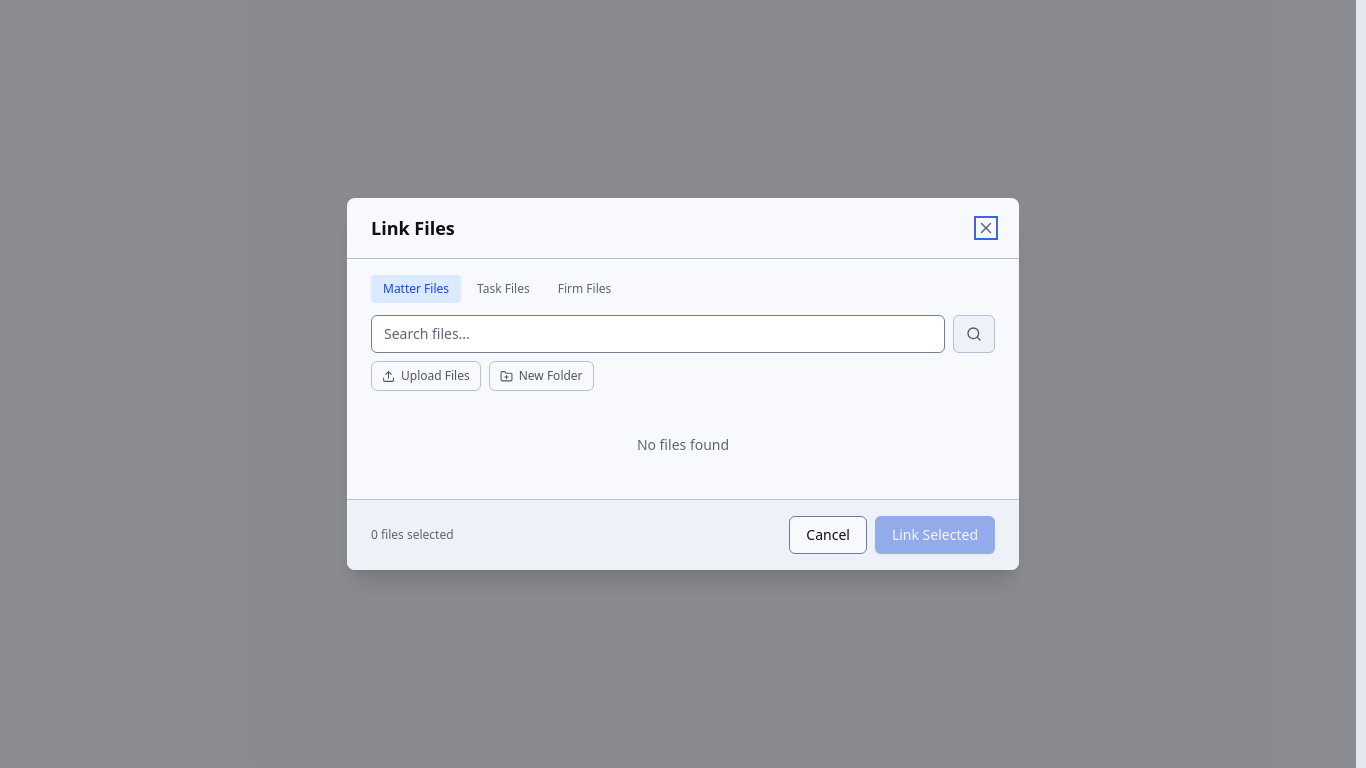
Test: disables the footer Cancel until the folder create settles
Click the button "New Folder" at (541, 376), box left=489, top=361, right=594, bottom=391
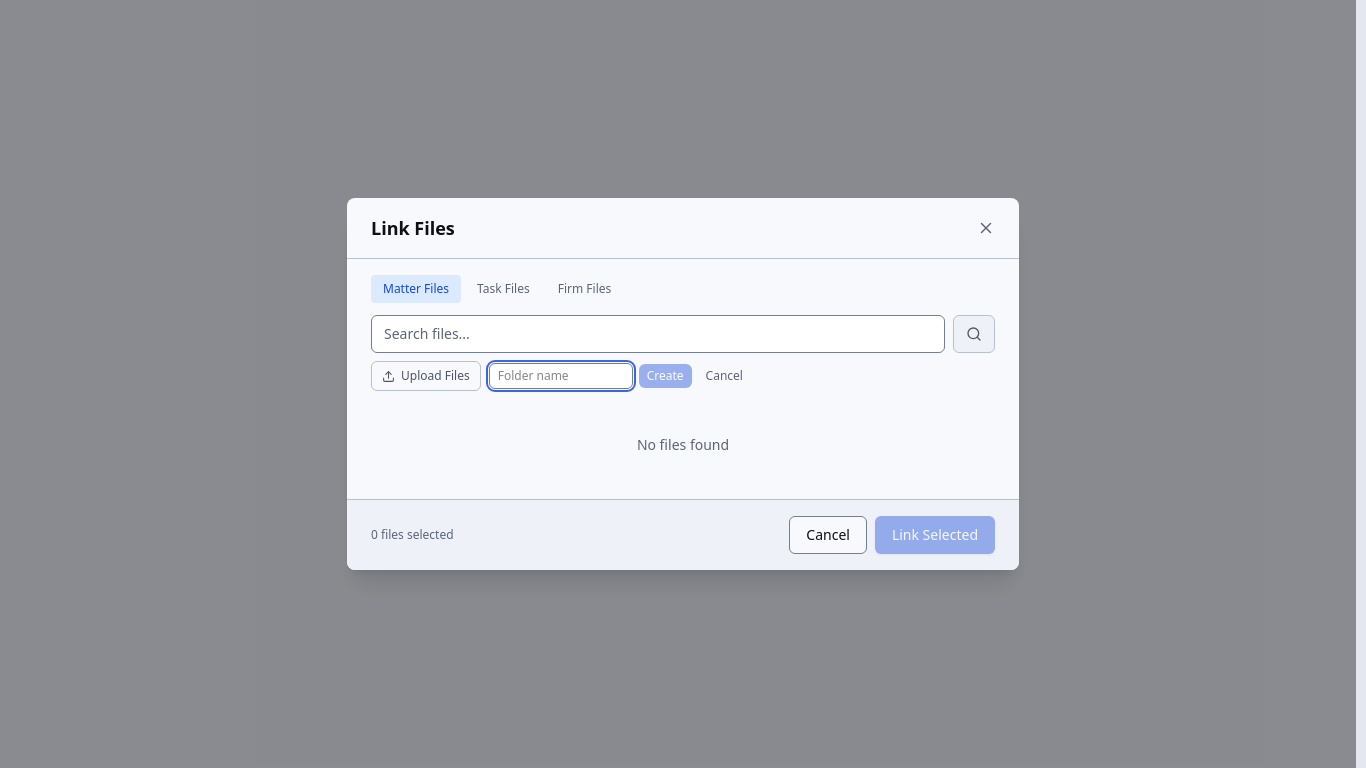
Type "Drafts" into the field with placeholder "Folder name" at (561, 376), box left=489, top=363, right=633, bottom=389
Then press Enter
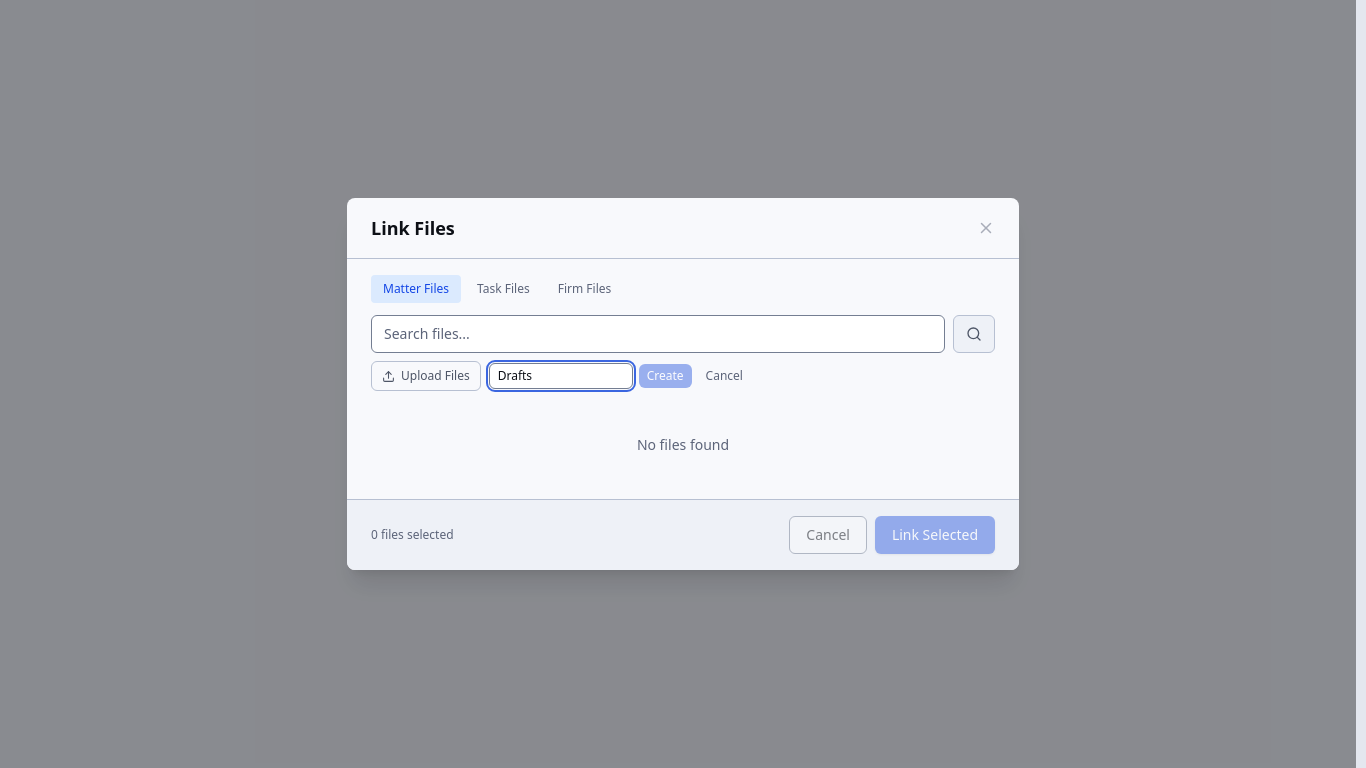
Expected: the button "Cancel" in the row of "0 files selected" is disabled
Click the button "Cancel" in the row of "0 files selected" at (828, 535), box left=789, top=516, right=867, bottom=554
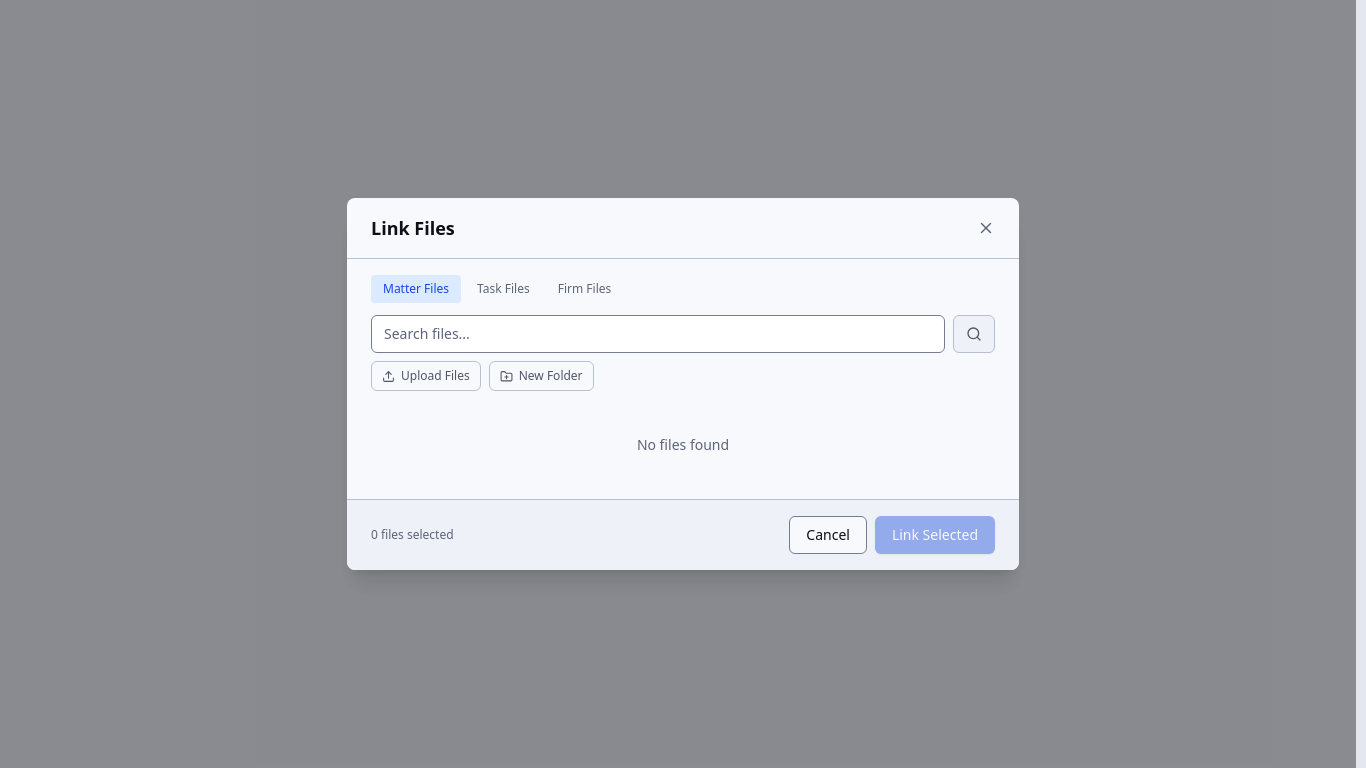
Expected: the button "Cancel" is enabled, left=789, top=516, right=867, bottom=554
